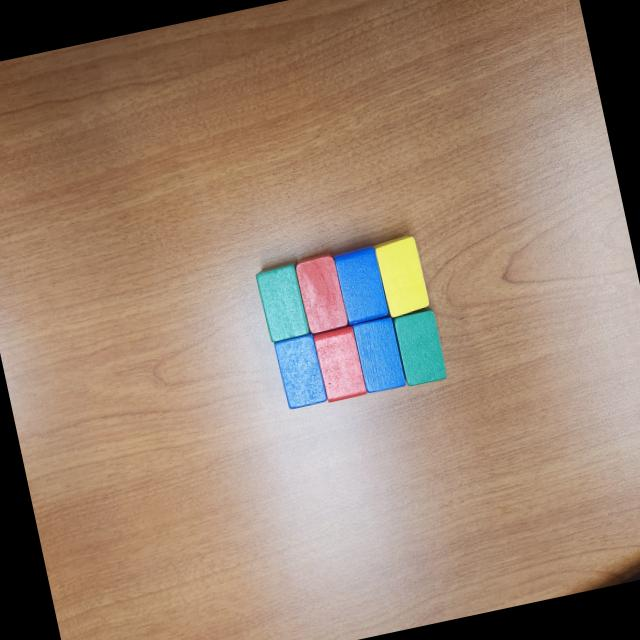blue: (332, 245, 389, 326), (273, 333, 330, 411), (351, 317, 408, 394)
green: (254, 258, 313, 344), (391, 304, 448, 388)
red: (293, 250, 350, 336), (313, 328, 367, 402)
yellow: (372, 232, 431, 318)
